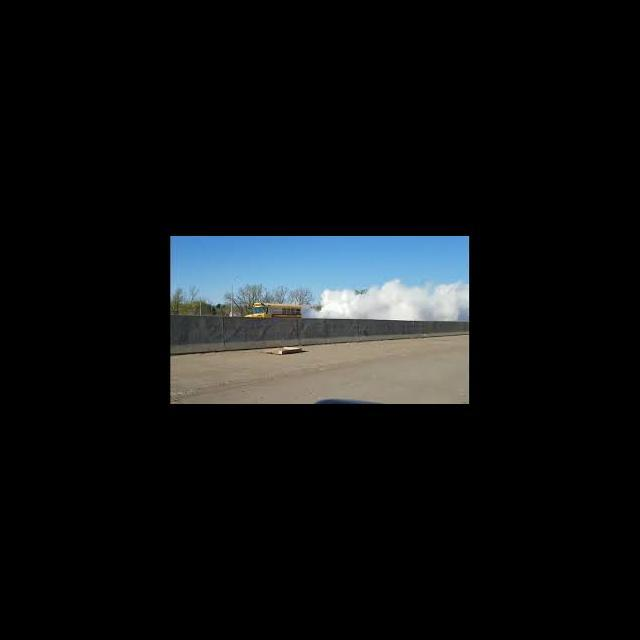Smoke: (320, 284, 468, 322)
